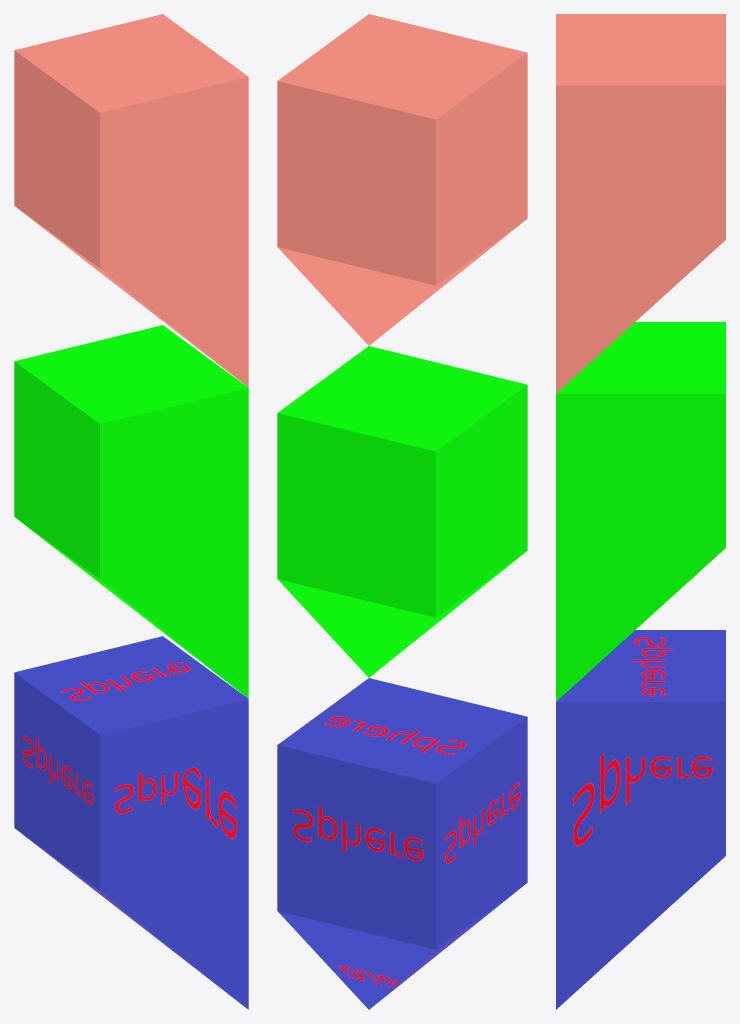
Rendered from three_materials_one_fallback.gltf.
The picture shows the model from 3 angles, left to right: view 1: azimuth 30°, elevation 25°; view 2: azimuth 150°, elevation 25°; view 3: azimuth 270°, elevation 25°; orthographic projection. The views are drawn at different scales.
Bounding box in the file's own units: 1 × 6 × 1.
Materials: 3 (1 with a texture image).
